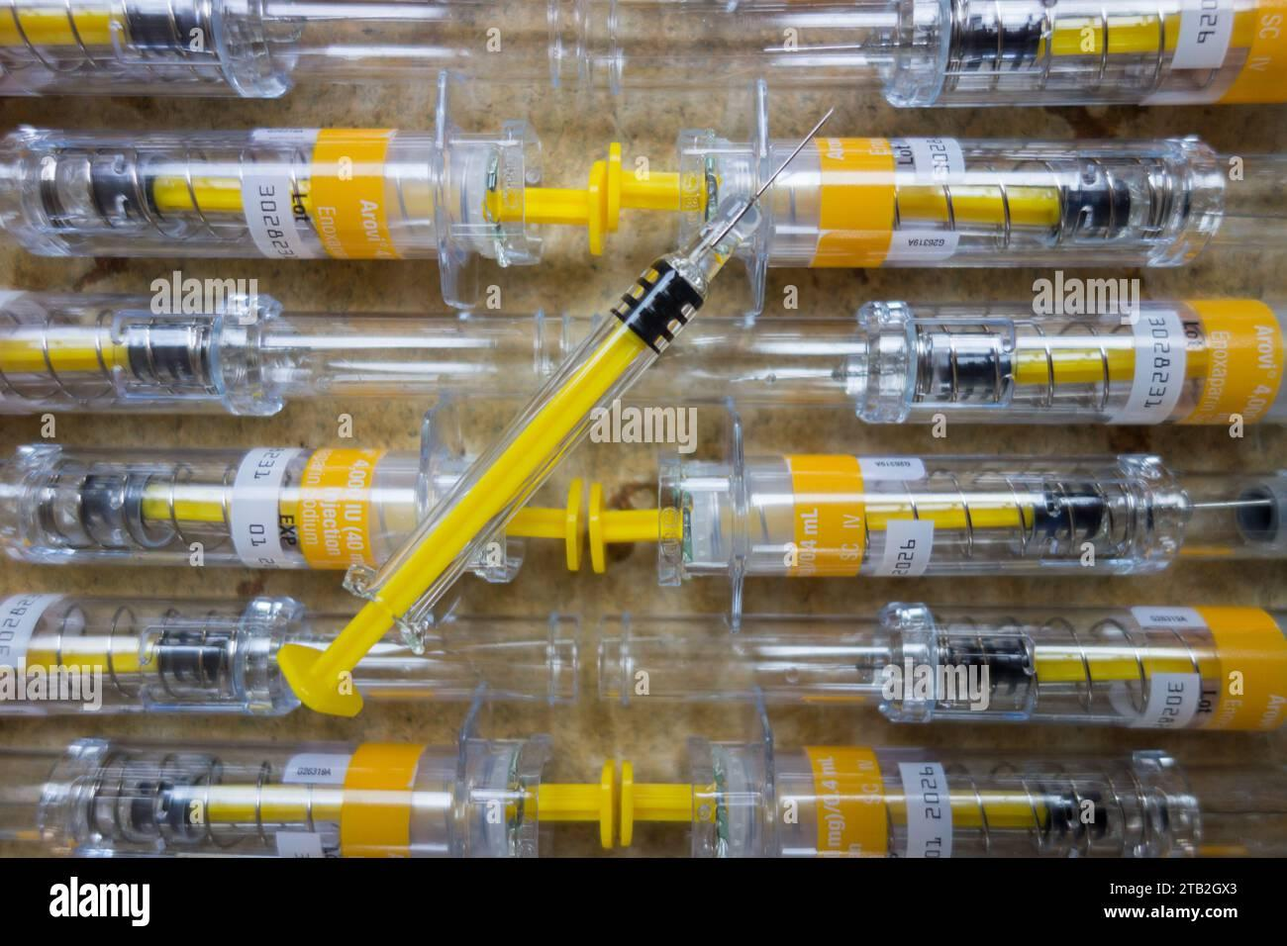Syringe: (279, 110, 833, 714), (0, 723, 1286, 856), (0, 95, 791, 304), (458, 424, 1286, 623), (0, 78, 602, 306), (0, 0, 1286, 104), (0, 76, 560, 306), (658, 436, 1286, 623), (634, 279, 1286, 423), (598, 603, 1286, 730), (0, 715, 614, 856), (620, 738, 1286, 857), (0, 411, 473, 569), (0, 593, 349, 714)
